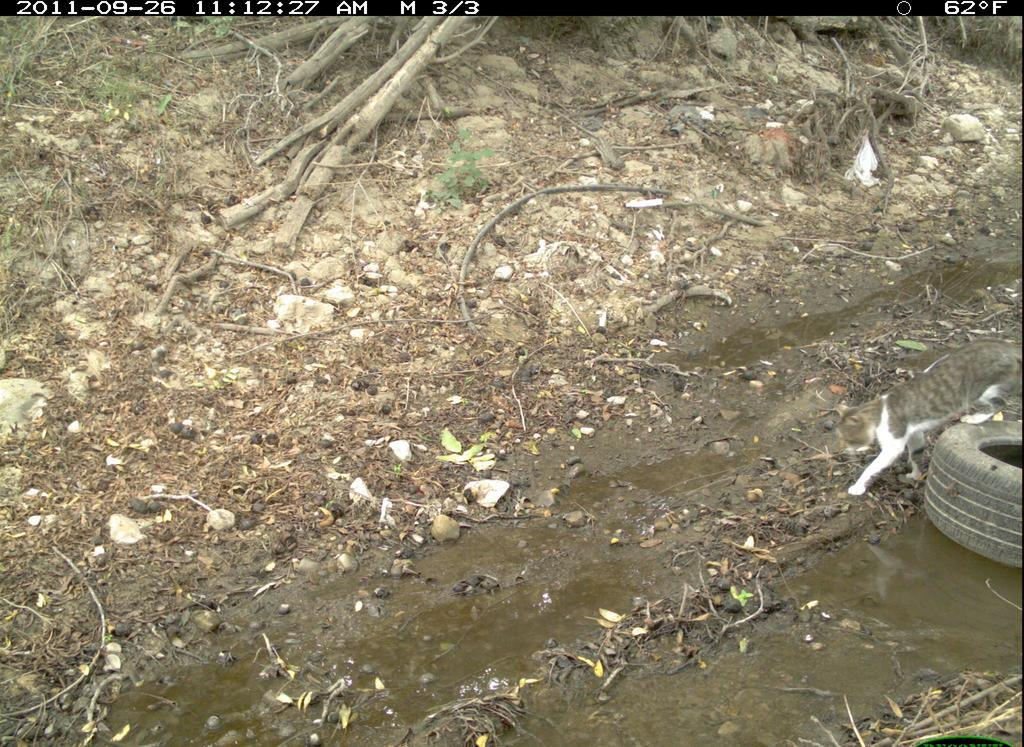cat: (794, 332, 1019, 514)
